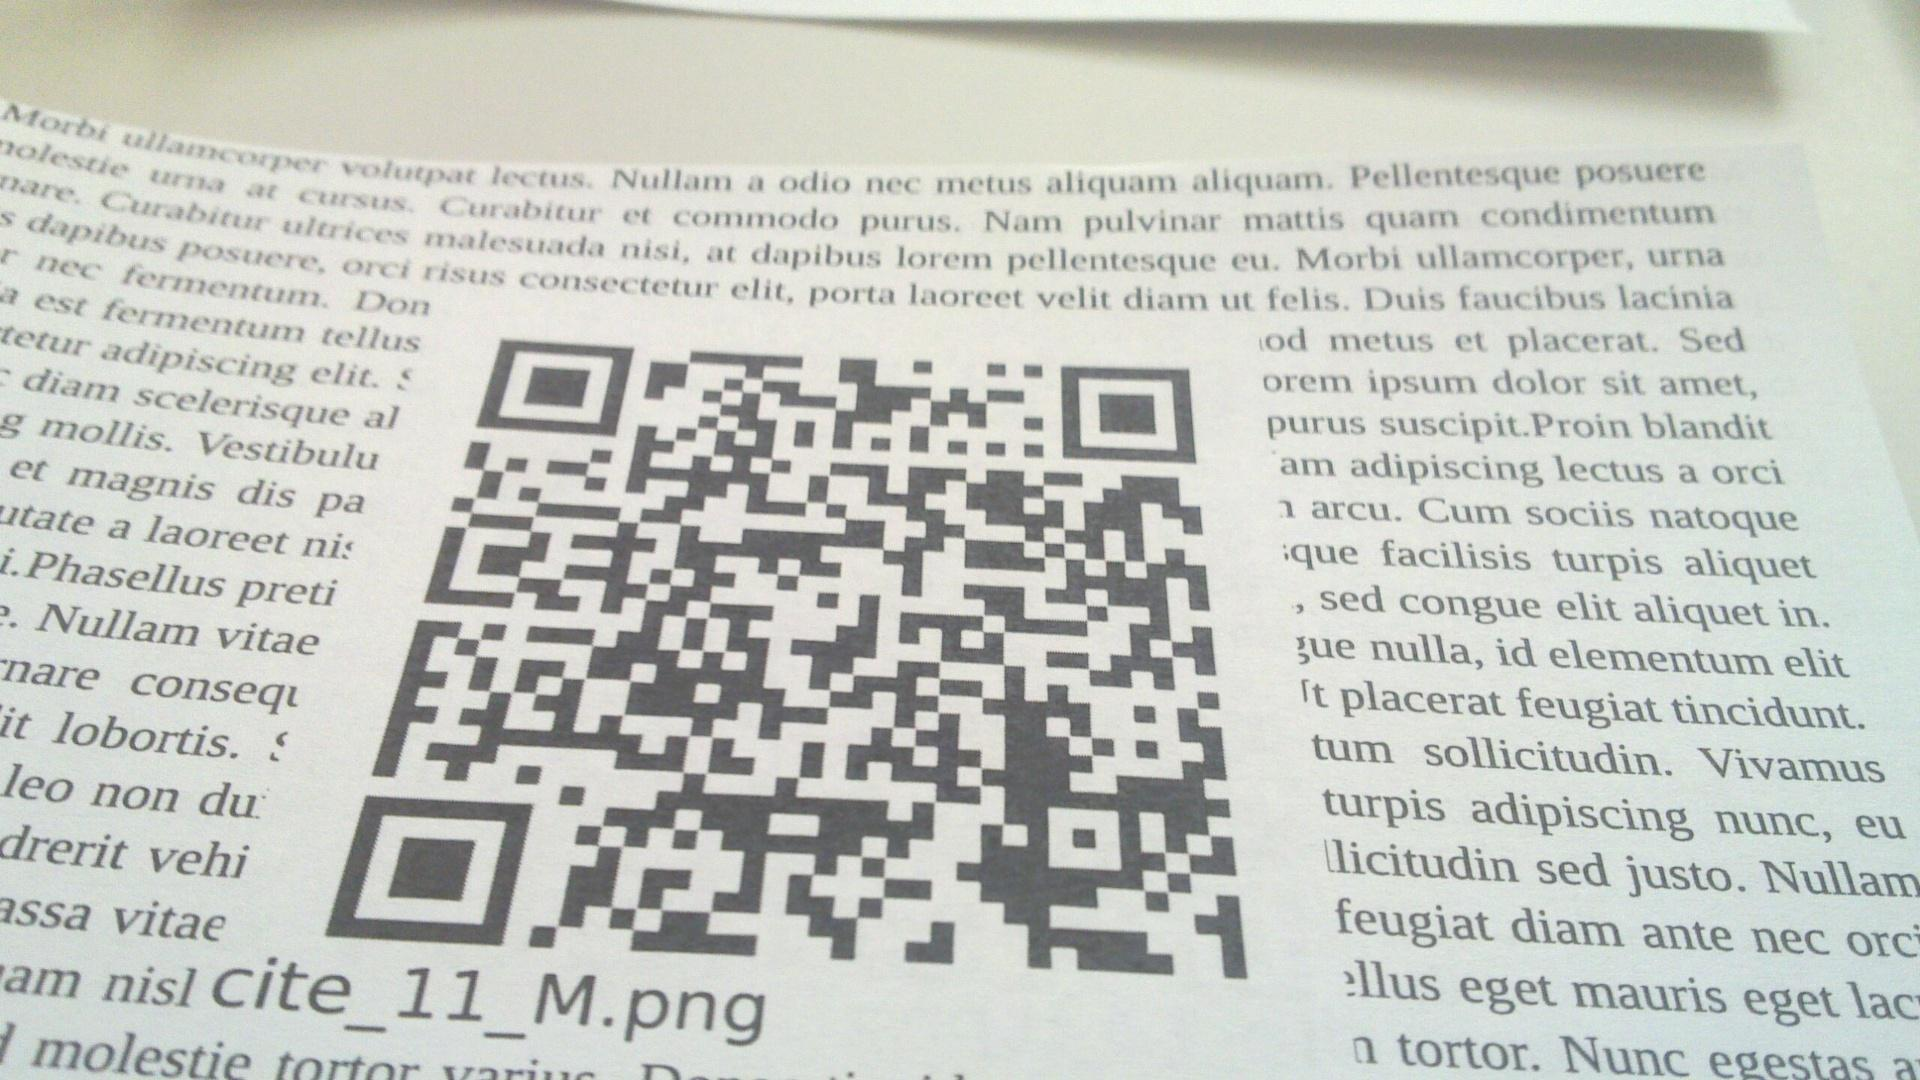qr_code: (324, 338, 1249, 982)
